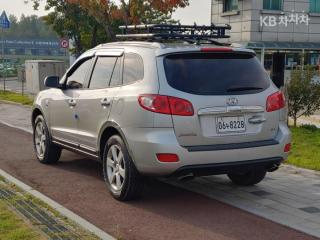0: (218, 121, 222, 129)
2: (233, 120, 237, 130), (237, 120, 241, 130)
6: (222, 121, 225, 131)
8: (240, 120, 245, 130), (229, 120, 233, 130)
plate: (213, 115, 250, 134)
누: (225, 121, 229, 130)
